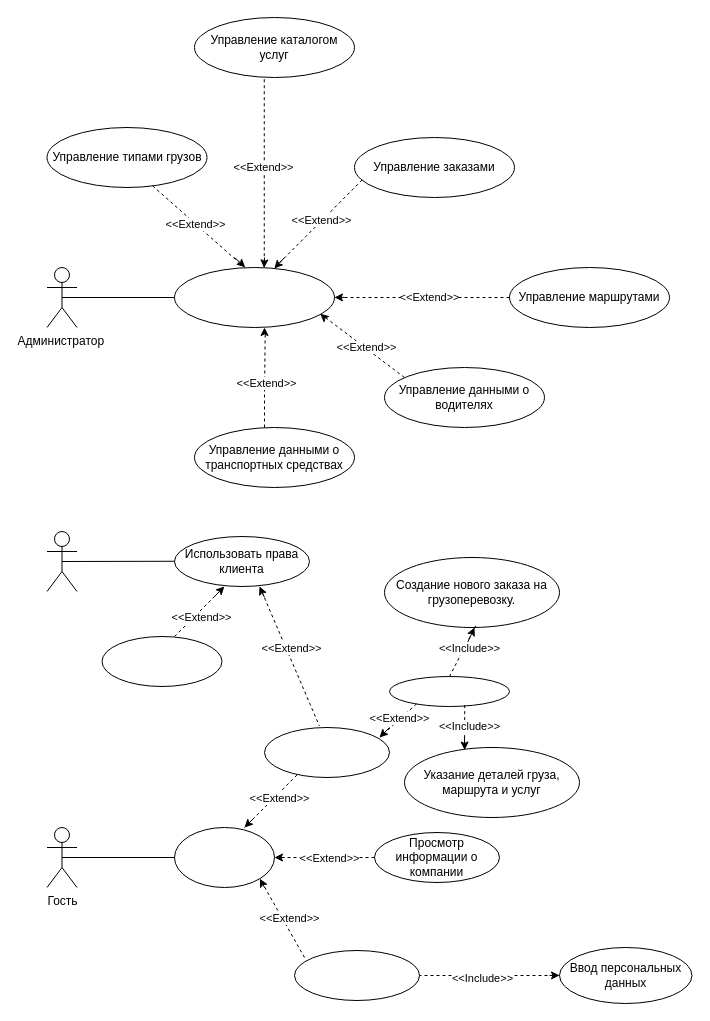
Some shapes in this 710 by 1021 pixel diagram are drawn without their labels. The box of each missing label's shape, as (x1, y1, x2, y2) in pixels:
Использовать права администратора: (174, 266, 334, 328)
Использовать права гостя: (174, 826, 274, 888)
Клиент: (46, 530, 77, 592)
Оформление услуг: (388, 676, 510, 706)
Просмотр каталога услуг: (264, 726, 390, 778)
Редактирование профиля: (101, 636, 222, 686)
Создание нового аккаунта: (294, 950, 420, 1000)
